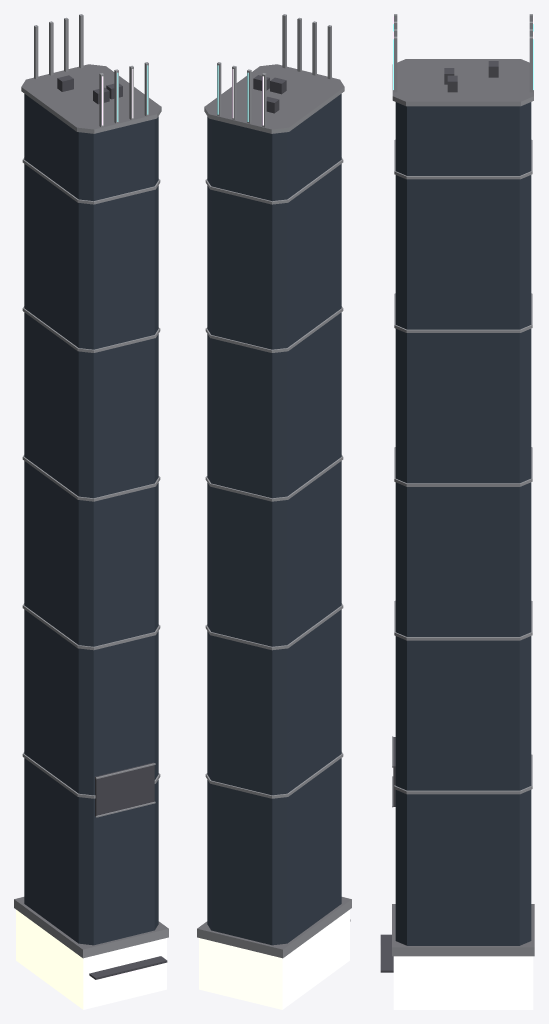
The model's file is r1014_fins.glb.
3 views of the same model, side by side, from view 1: azimuth 30°, elevation 25°; view 2: azimuth 150°, elevation 25°; view 3: azimuth 270°, elevation 25° (orthographic). The views are drawn at different scales.
Parts seen in each view (by area): view 1: r1014_fins; view 2: r1014_fins; view 3: r1014_fins.
Boxes of the visible parts, x1,y1,x2,y2 form: r1014_fins: (14, 14, 168, 1009); r1014_fins: (197, 14, 351, 1009); r1014_fins: (380, 14, 534, 1009).
Size of the model in its own units: 10.3 by 106 by 15.49.
